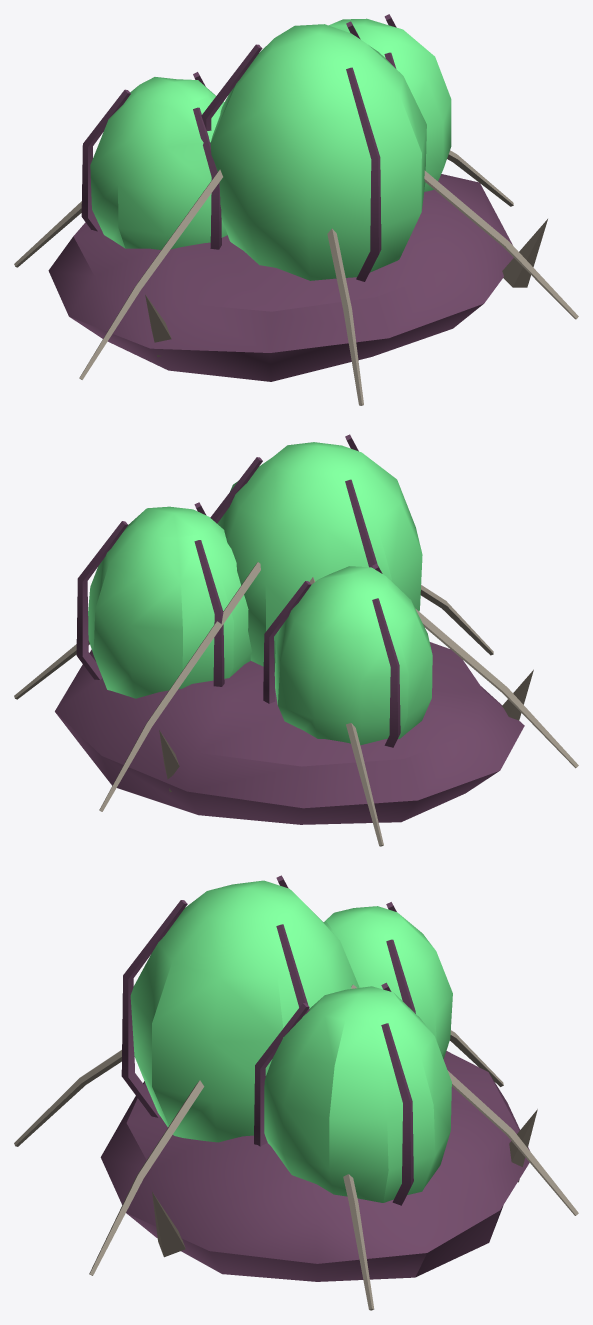
The model's file is Boss_BroodMother_EggSac.fbx.
The picture shows the model from 3 angles, top to bottom: view 1: azimuth 30°, elevation 25°; view 2: azimuth 150°, elevation 25°; view 3: azimuth 270°, elevation 25°; orthographic projection. The views are drawn at different scales.
Visible parts, largest first — view 1: Eggs, Mound, Unborn; view 2: Eggs, Mound, Unborn; view 3: Eggs, Mound, Unborn.
Boxes of the visible parts, x1,y1,x2,y2 form: Eggs: [90, 18, 451, 280]; Mound: [48, 174, 547, 381]; Unborn: [14, 14, 578, 405]; Eggs: [88, 442, 432, 745]; Mound: [55, 642, 533, 824]; Unborn: [14, 434, 578, 846]; Eggs: [130, 880, 452, 1202]; Mound: [100, 1051, 537, 1281]; Unborn: [14, 875, 578, 1310].
Bounding box in the file's own units: 4.47 × 2.72 × 4.09.
